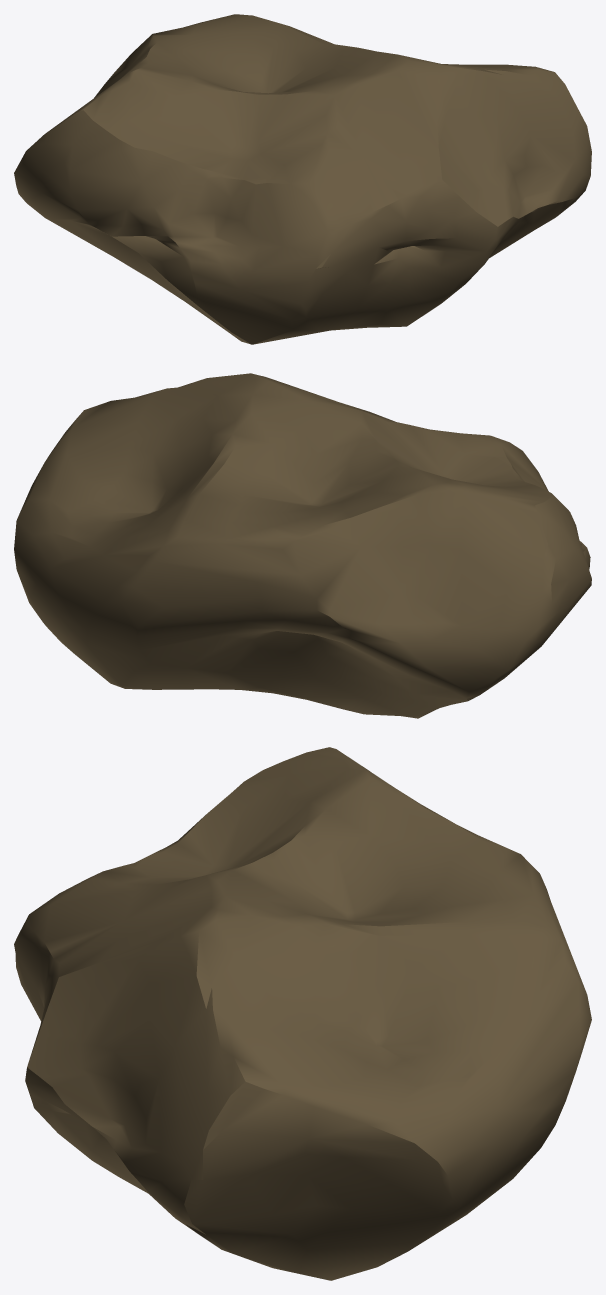
File: rock1sand.fbx
3 views of the same model, one above another, from view 1: azimuth 30°, elevation 25°; view 2: azimuth 150°, elevation 25°; view 3: azimuth 270°, elevation 25° (orthographic). The views are drawn at different scales.
Visible parts, largest first — view 1: Cube; view 2: Cube; view 3: Cube.
Part boxes in pixels (x1,y1,x2,y2): Cube: [14, 14, 591, 344]; Cube: [14, 373, 591, 718]; Cube: [14, 747, 591, 1280].
Bounding box in the file's own units: 414 × 212 × 326.
